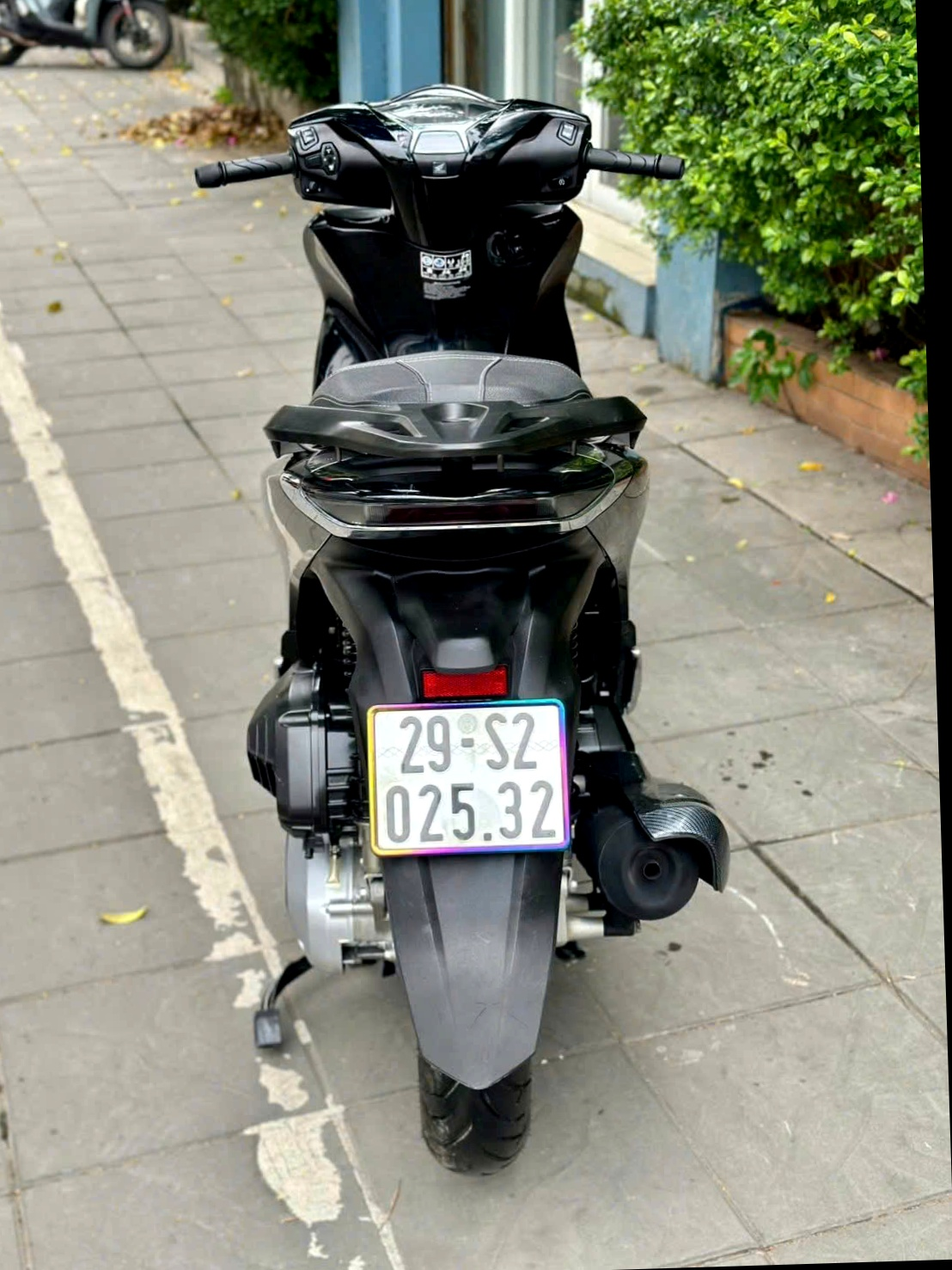Bien-so: (362, 696, 575, 859)
